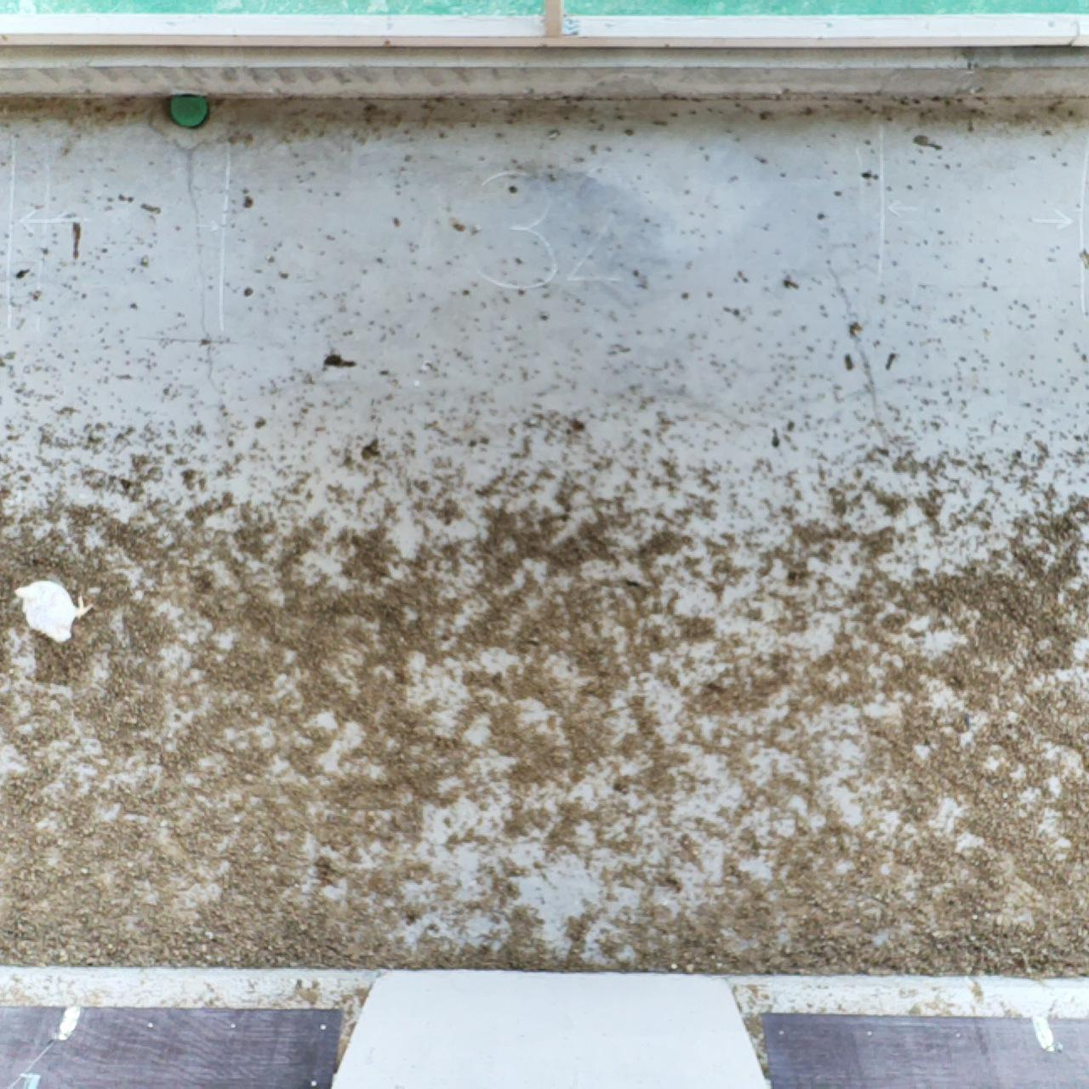chicken: (12, 573, 100, 648)
